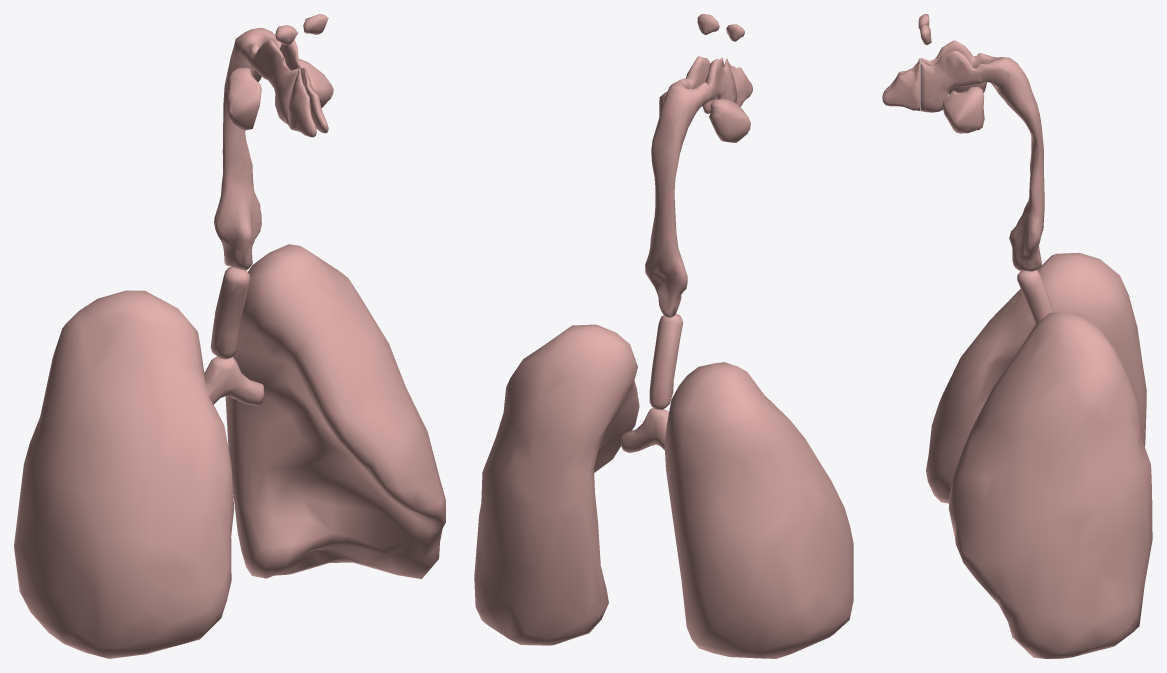
File: pediatric_adolescent_male.respiratory.LOD1.glb
The picture shows the model from 3 angles, left to right: view 1: azimuth 30°, elevation 25°; view 2: azimuth 150°, elevation 25°; view 3: azimuth 270°, elevation 25°; orthographic projection. The views are drawn at different scales.
Visible parts, largest first — view 1: PEDIATRIC.ADOLESCENT.MALE.RESPIRATORY.LUNG.R, PEDIATRIC.ADOLESCENT.MALE.RESPIRATORY.LUNG.L, PEDIATRIC.ADOLESCENT.MALE.RESPIRATORY.ET2, PEDIATRIC.ADOLESCENT.MALE.RESPIRATORY.TRACHEA, PEDIATRIC.ADOLESCENT.MALE.RESPIRATORY.BB1, PEDIATRIC.ADOLESCENT.MALE.RESPIRATORY.ET1; view 2: PEDIATRIC.ADOLESCENT.MALE.RESPIRATORY.LUNG.R, PEDIATRIC.ADOLESCENT.MALE.RESPIRATORY.LUNG.L, PEDIATRIC.ADOLESCENT.MALE.RESPIRATORY.ET2, PEDIATRIC.ADOLESCENT.MALE.RESPIRATORY.TRACHEA, PEDIATRIC.ADOLESCENT.MALE.RESPIRATORY.BB1, PEDIATRIC.ADOLESCENT.MALE.RESPIRATORY.ET1; view 3: PEDIATRIC.ADOLESCENT.MALE.RESPIRATORY.LUNG.L, PEDIATRIC.ADOLESCENT.MALE.RESPIRATORY.LUNG.R, PEDIATRIC.ADOLESCENT.MALE.RESPIRATORY.ET2, PEDIATRIC.ADOLESCENT.MALE.RESPIRATORY.ET1, PEDIATRIC.ADOLESCENT.MALE.RESPIRATORY.TRACHEA.
Part boxes in pixels (bbox=[...]): PEDIATRIC.ADOLESCENT.MALE.RESPIRATORY.LUNG.R: bbox=[14, 290, 234, 658]; PEDIATRIC.ADOLESCENT.MALE.RESPIRATORY.LUNG.L: bbox=[225, 244, 445, 578]; PEDIATRIC.ADOLESCENT.MALE.RESPIRATORY.ET2: bbox=[214, 14, 333, 270]; PEDIATRIC.ADOLESCENT.MALE.RESPIRATORY.TRACHEA: bbox=[210, 267, 250, 359]; PEDIATRIC.ADOLESCENT.MALE.RESPIRATORY.BB1: bbox=[204, 356, 264, 405]; PEDIATRIC.ADOLESCENT.MALE.RESPIRATORY.ET1: bbox=[288, 68, 328, 137]; PEDIATRIC.ADOLESCENT.MALE.RESPIRATORY.LUNG.R: bbox=[664, 362, 853, 658]; PEDIATRIC.ADOLESCENT.MALE.RESPIRATORY.LUNG.L: bbox=[474, 324, 639, 645]; PEDIATRIC.ADOLESCENT.MALE.RESPIRATORY.ET2: bbox=[645, 14, 750, 317]; PEDIATRIC.ADOLESCENT.MALE.RESPIRATORY.TRACHEA: bbox=[649, 313, 682, 409]; PEDIATRIC.ADOLESCENT.MALE.RESPIRATORY.BB1: bbox=[621, 408, 668, 453]; PEDIATRIC.ADOLESCENT.MALE.RESPIRATORY.ET1: bbox=[722, 58, 752, 106]; PEDIATRIC.ADOLESCENT.MALE.RESPIRATORY.LUNG.L: bbox=[948, 312, 1152, 658]; PEDIATRIC.ADOLESCENT.MALE.RESPIRATORY.LUNG.R: bbox=[926, 252, 1146, 503]; PEDIATRIC.ADOLESCENT.MALE.RESPIRATORY.ET2: bbox=[918, 14, 1044, 271]; PEDIATRIC.ADOLESCENT.MALE.RESPIRATORY.ET1: bbox=[882, 58, 919, 110]; PEDIATRIC.ADOLESCENT.MALE.RESPIRATORY.TRACHEA: bbox=[1017, 270, 1053, 325].
Bounding box in the file's own units: 0.2583 × 0.409 × 0.1767.
